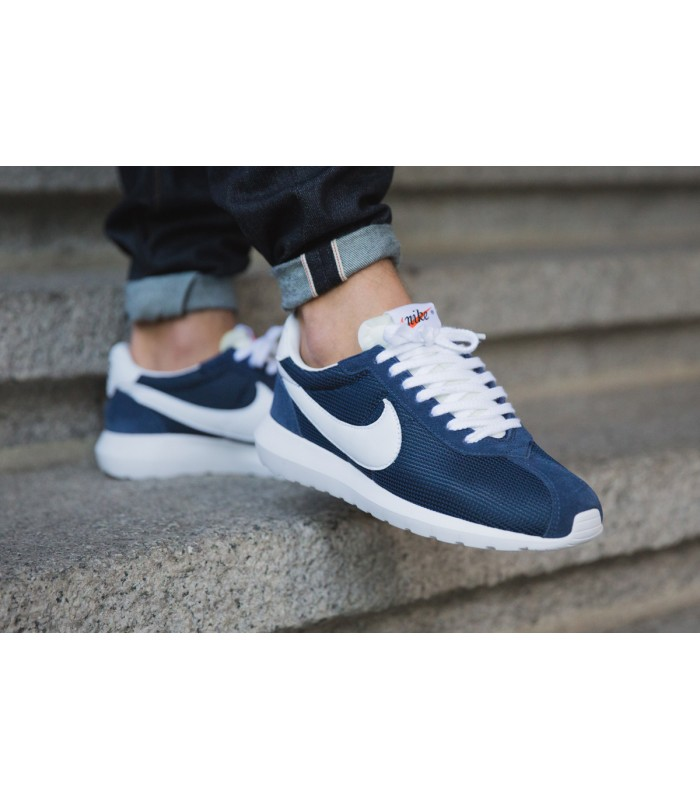nike: (277, 371, 407, 474)
